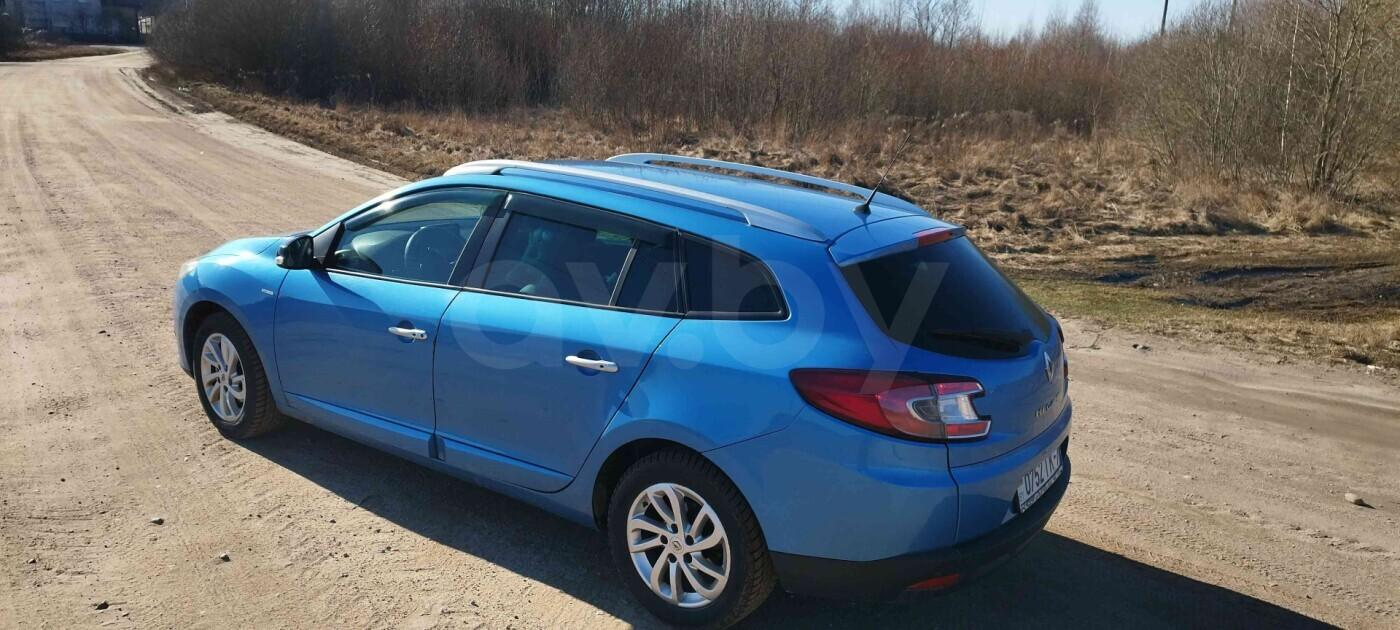Megane_2014-2016: (172, 148, 1076, 619)
